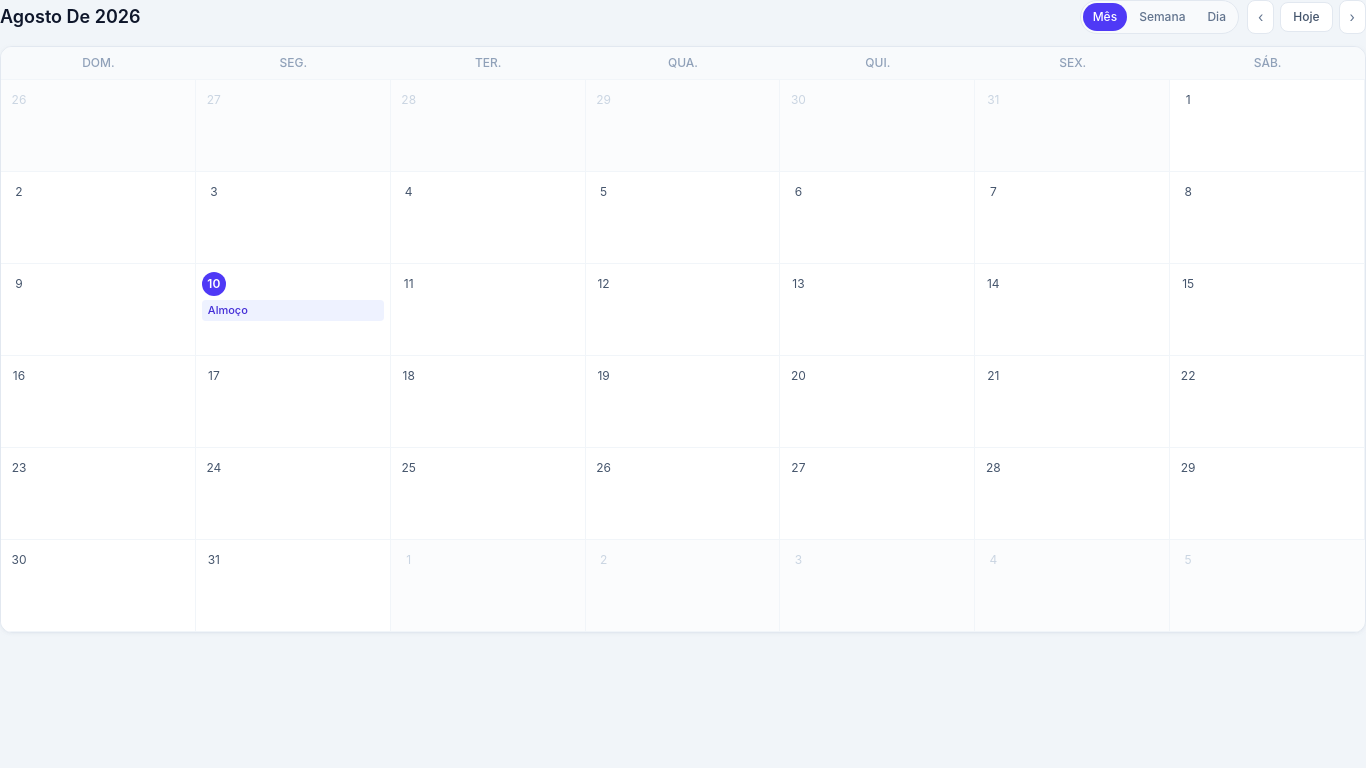
Scenario: CalendarView › abre o modal de detalhes ao clicar num evento na visão de mês
What coordinates should you click on to do the following:
click the button "Almoço"
I would click on:
 (293, 310)
Its box is [202,300,384,320].
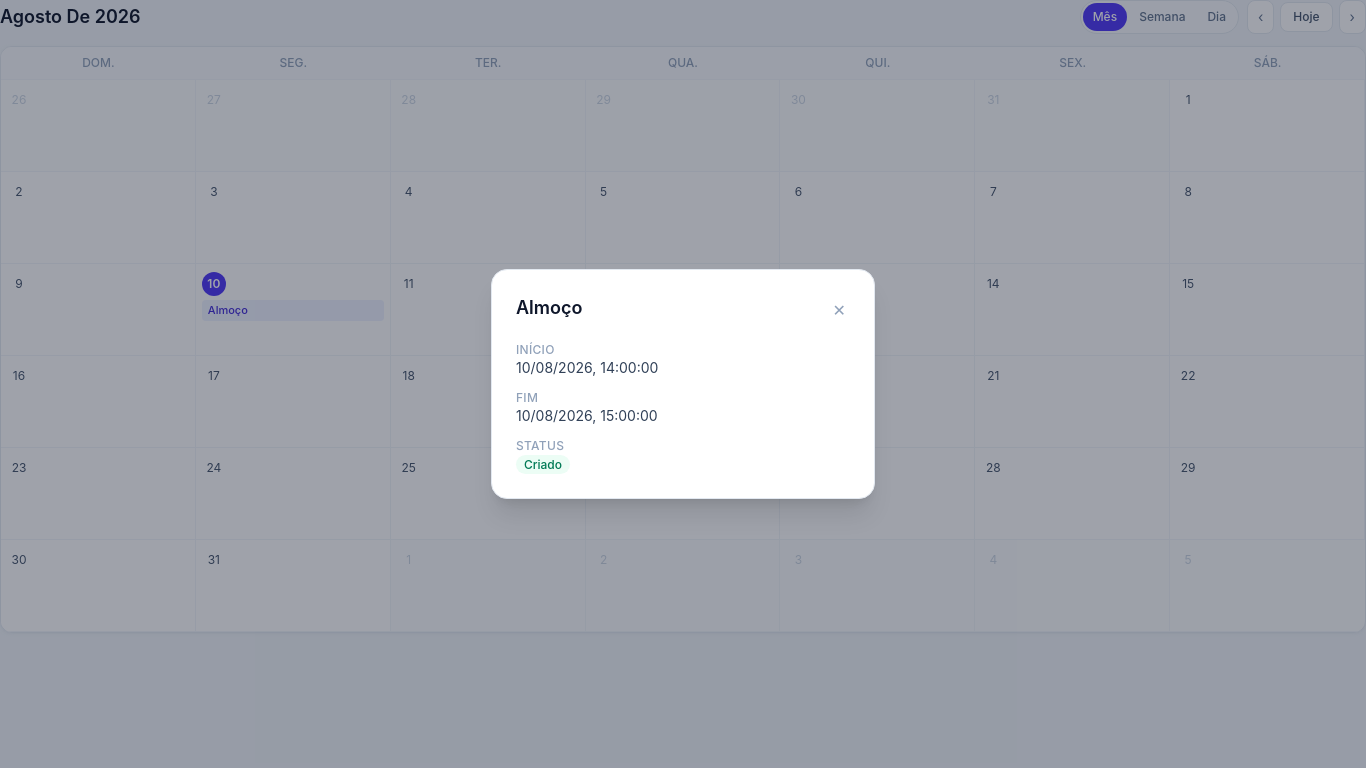
expect the dialog is shown: met, box [491,269,875,499]
expect the text "Início" is shown: met, box [516,342,555,357]
